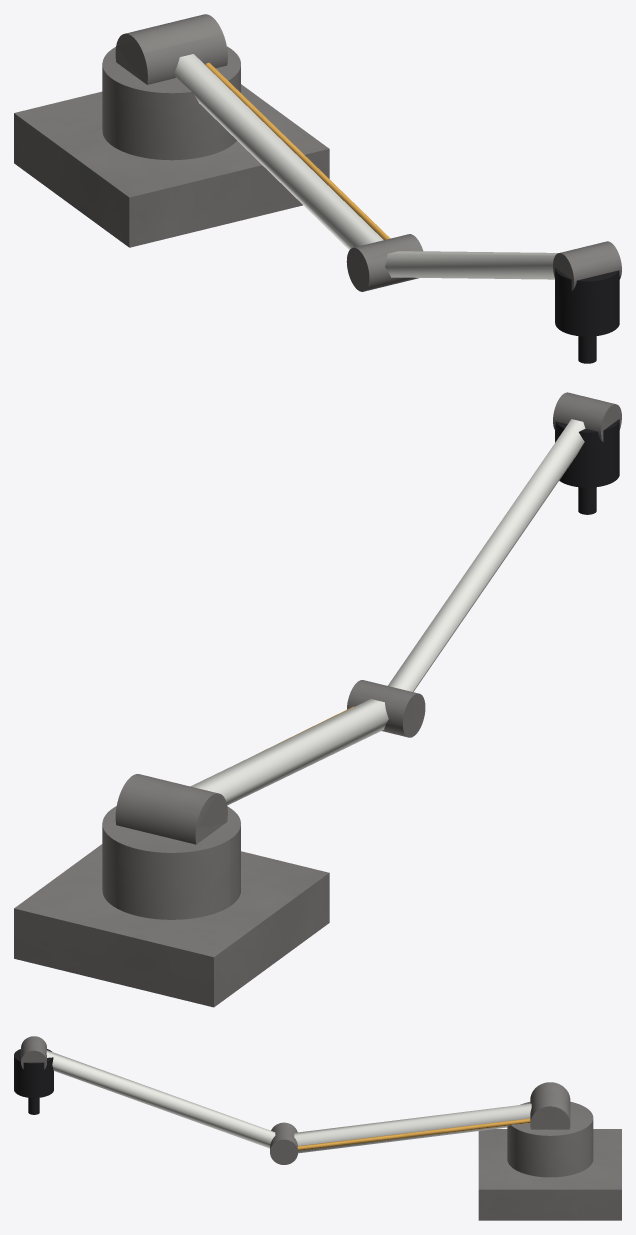
Rendered from rover30_robotic_arm_s_deployed.glb.
3 views of the same model, one above another, from view 1: azimuth 30°, elevation 25°; view 2: azimuth 150°, elevation 25°; view 3: azimuth 270°, elevation 25° (orthographic). The views are drawn at different scales.
Visible parts, largest first — view 1: base, arm_turret, arm_link1, arm_link2, arm_tool, arm_elbow, arm_wrist, arm_cable; view 2: base, arm_turret, arm_link2, arm_link1, arm_tool, arm_elbow, arm_wrist; view 3: base, arm_turret, arm_link2, arm_link1, arm_tool, arm_cable, arm_elbow, arm_wrist.
Part boxes in pixels (left/top/right/bottom): base: left=14, top=84, right=329, bottom=247; arm_turret: left=102, top=14, right=240, bottom=160; arm_link1: left=174, top=54, right=383, bottom=249; arm_link2: left=385, top=251, right=558, bottom=279; arm_tool: left=555, top=268, right=619, bottom=363; arm_elbow: left=346, top=234, right=423, bottom=291; arm_wrist: left=553, top=241, right=621, bottom=290; arm_cable: left=205, top=62, right=390, bottom=239; base: left=14, top=844, right=329, bottom=1007; arm_turret: left=102, top=774, right=240, bottom=919; arm_link2: left=388, top=419, right=585, bottom=691; arm_link1: left=190, top=699, right=388, bottom=805; arm_tool: left=555, top=419, right=619, bottom=514; arm_elbow: left=347, top=680, right=425, bottom=737; arm_wrist: left=553, top=392, right=621, bottom=441; base: left=478, top=1129, right=621, bottom=1220; arm_turret: left=507, top=1082, right=593, bottom=1177; arm_link2: left=46, top=1050, right=275, bottom=1148; arm_link1: left=294, top=1103, right=531, bottom=1153; arm_tool: left=14, top=1049, right=53, bottom=1114; arm_cable: left=297, top=1118, right=530, bottom=1150; arm_elbow: left=270, top=1122, right=297, bottom=1164; arm_wrist: left=21, top=1036, right=46, bottom=1069.
Bounding box in the file's own units: 0.5 × 0.5655 × 2.12.
4 materials, 2 textured.
